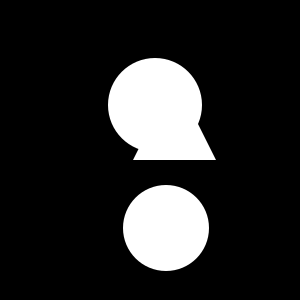rectangle: (108, 58, 202, 152), (123, 185, 209, 271)
triangle: (133, 77, 216, 160)
